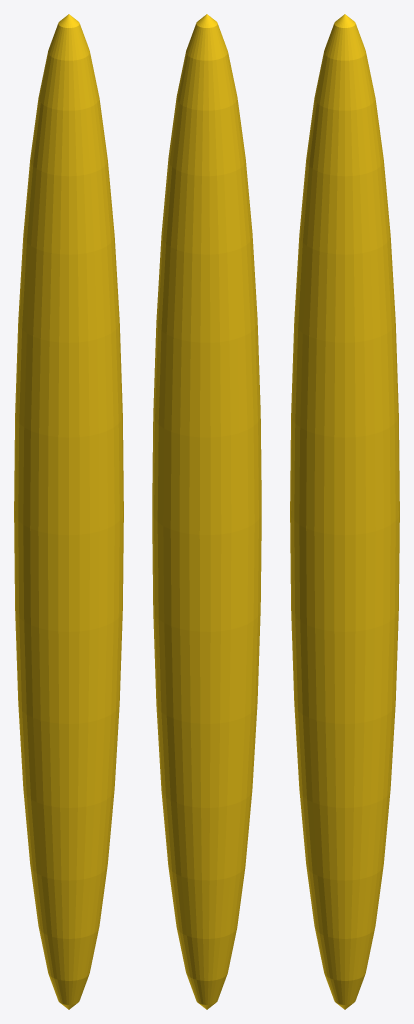
The model's file is Bullet.fbx.
3 renders of one model, left to right at view 1: azimuth 90°, elevation 25°; view 2: azimuth 150°, elevation 25°; view 3: azimuth 270°, elevation 25°, orthographic.
Parts seen in each view (by area): view 1: Sphere; view 2: Sphere; view 3: Sphere.
Boxes of the visible parts, bbox=[...] form: Sphere: bbox=[14, 14, 123, 1009]; Sphere: bbox=[152, 14, 261, 1009]; Sphere: bbox=[290, 14, 399, 1009].
Size of the model in its own units: 10 by 10 by 100.
